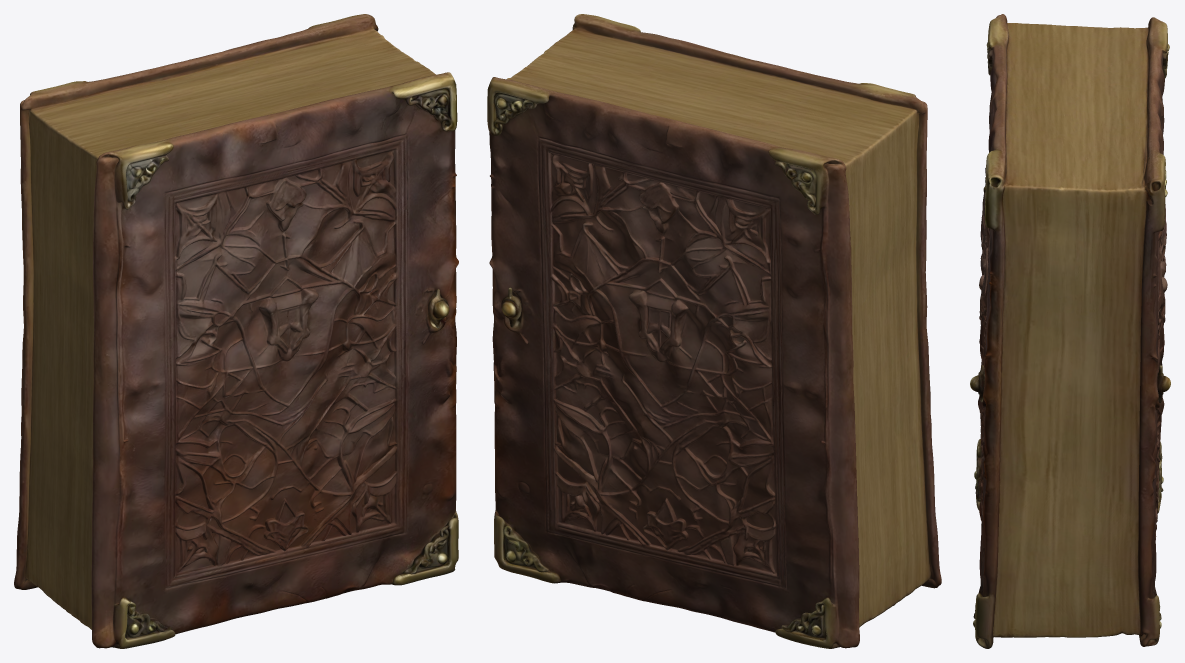
File: antique+leather+book+3d+model.glb
The picture shows the model from 3 angles, left to right: view 1: azimuth 30°, elevation 25°; view 2: azimuth 150°, elevation 25°; view 3: azimuth 270°, elevation 25°; orthographic projection. The views are drawn at different scales.
Visible parts, largest first — view 1: tripo_node_995877c0-f99b-4d32-8b66-839f4bc053e1; view 2: tripo_node_995877c0-f99b-4d32-8b66-839f4bc053e1; view 3: tripo_node_995877c0-f99b-4d32-8b66-839f4bc053e1.
Part boxes in pixels (left/top/right/bottom): tripo_node_995877c0-f99b-4d32-8b66-839f4bc053e1: left=14, top=14, right=458, bottom=648; tripo_node_995877c0-f99b-4d32-8b66-839f4bc053e1: left=487, top=14, right=941, bottom=648; tripo_node_995877c0-f99b-4d32-8b66-839f4bc053e1: left=970, top=14, right=1170, bottom=648.
Size of the model in its own units: 0.7797 by 1 by 0.3829.
1 material, 1 textured.
